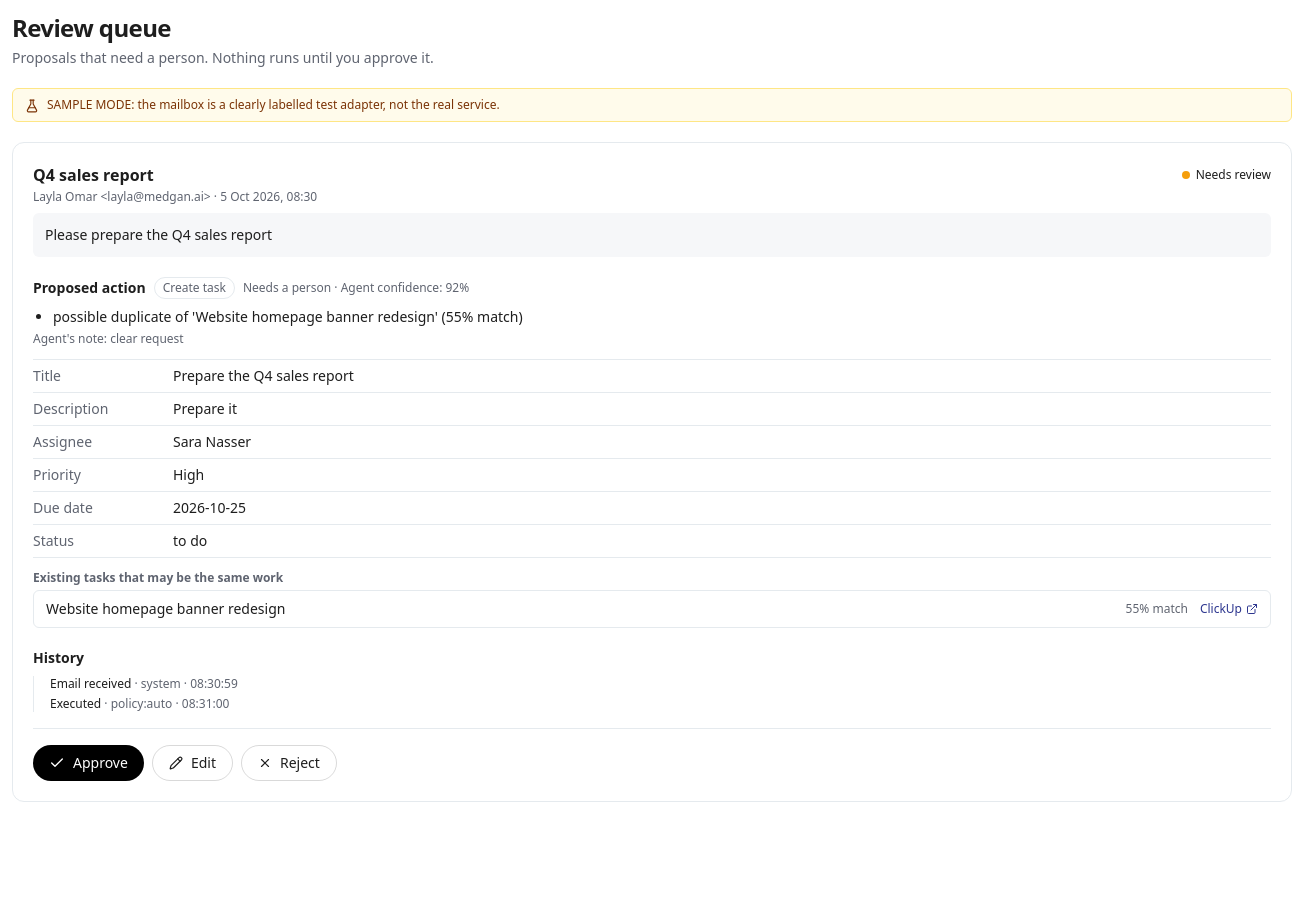
Scenario: ReviewView › shows why it needs a person, and Approve runs only the server action
This screenshot has width=1292, height=912.
Expected: the element with test id "review-card" shows "possible duplicate of 'Website homepage banner redesign'", [53, 307, 523, 326]
Click the button "Approve" at coordinates (88, 763), box [33, 745, 144, 781]
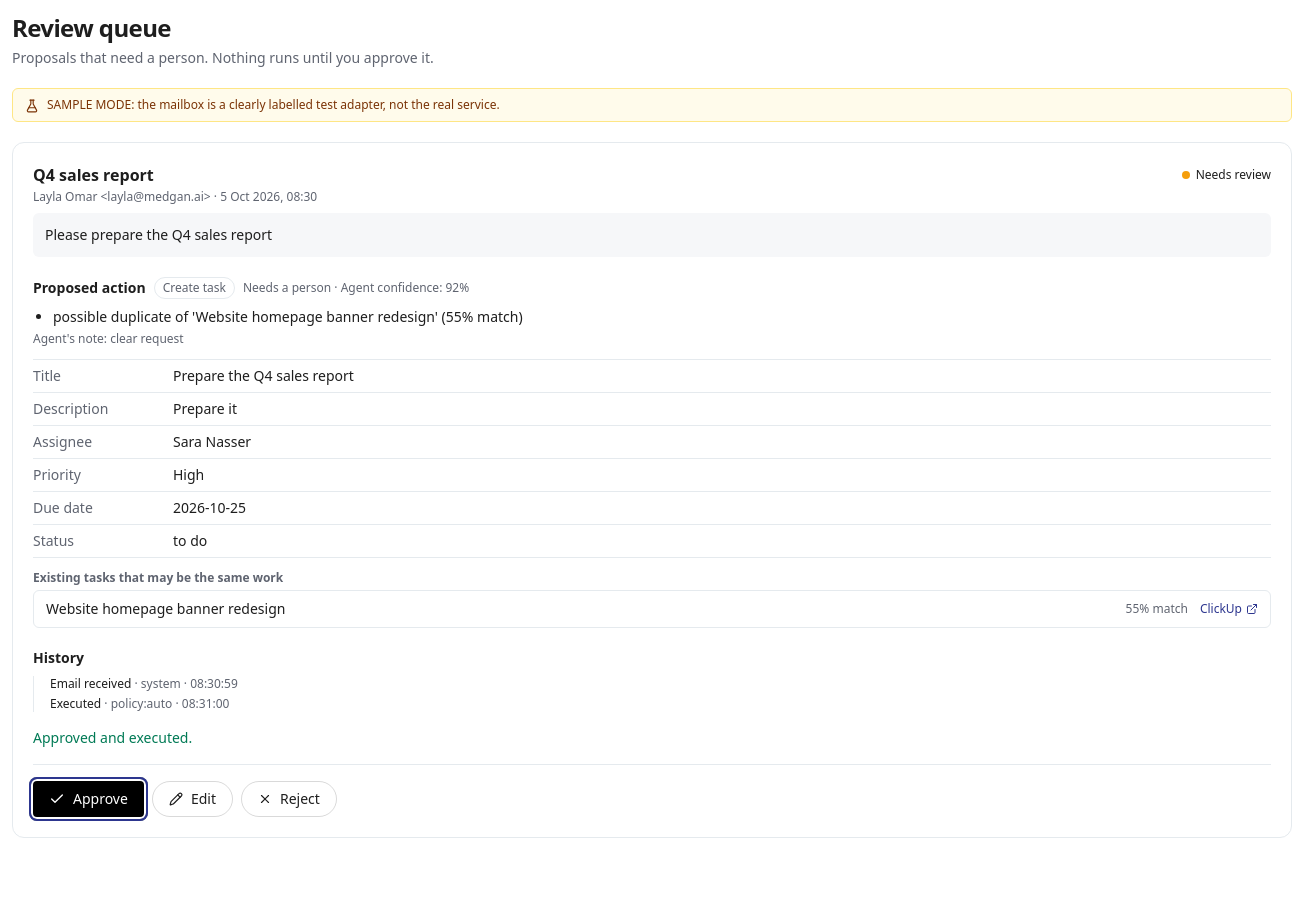
Expected: the text "Approved and executed." is shown, [33, 728, 192, 747]
